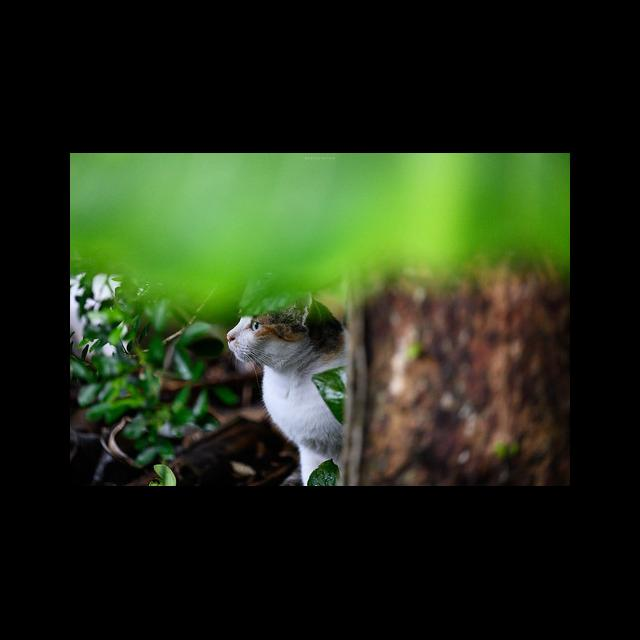animals: (225, 296, 338, 487)
